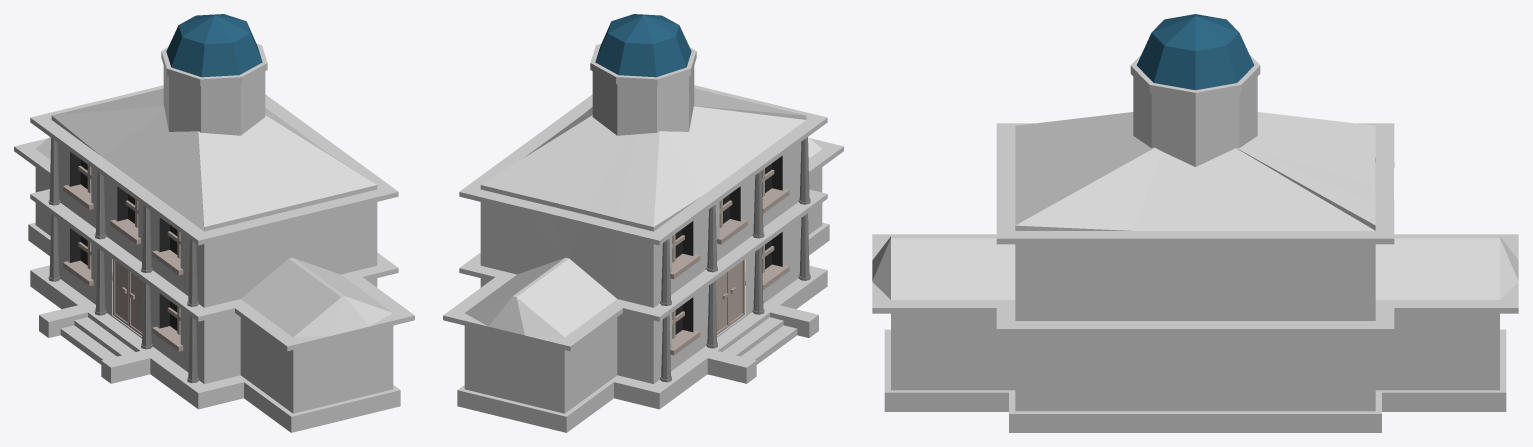
The model's file is TOWNHALL.fbx.
3 views of the same model, side by side, from view 1: azimuth 30°, elevation 25°; view 2: azimuth 150°, elevation 25°; view 3: azimuth 270°, elevation 25° (orthographic). The views are drawn at different scales.
Parts seen in each view (by area): view 1: Stadhuis, Cylinder, Sphere, Cylinder_1, deur, deur_2_3, Cylinder_4, Cylinder_16, Cylinder_7, Cylinder_13, Cylinder_19, Cylinder_25 (+12 smaller); view 2: Stadhuis, Cylinder, Sphere, Cylinder_1, deur_2_3, deur, Cylinder_13, Cylinder_25, Cylinder_4, Cylinder_7, Cylinder_10, Cylinder_16 (+12 smaller); view 3: Stadhuis, Cylinder, Sphere, Cylinder_1.
Boxes of the visible parts, left/top/right/bottom form: Stadhuis: left=14, top=85, right=414, bottom=432; Cylinder: left=163, top=66, right=265, bottom=135; Sphere: left=166, top=14, right=262, bottom=77; Cylinder_1: left=161, top=44, right=267, bottom=86; deur: left=113, top=259, right=128, bottom=326; deur_2_3: left=129, top=271, right=143, bottom=335; Cylinder_4: left=188, top=239, right=197, bottom=304; Cylinder_16: left=188, top=315, right=197, bottom=380; Cylinder_7: left=142, top=206, right=151, bottom=270; Cylinder_13: left=49, top=138, right=59, bottom=202; Cylinder_19: left=142, top=282, right=151, bottom=346; Cylinder_25: left=49, top=214, right=59, bottom=278; Stadhuis: left=443, top=85, right=843, bottom=432; Cylinder: left=592, top=66, right=694, bottom=135; Sphere: left=595, top=14, right=691, bottom=77; Cylinder_1: left=590, top=44, right=696, bottom=86; deur_2_3: left=729, top=259, right=744, bottom=325; deur: left=715, top=271, right=729, bottom=334; Cylinder_13: left=661, top=238, right=670, bottom=303; Cylinder_25: left=661, top=315, right=670, bottom=379; Cylinder_4: left=799, top=137, right=809, bottom=202; Cylinder_7: left=753, top=171, right=763, bottom=235; Cylinder_10: left=707, top=204, right=717, bottom=269; Cylinder_16: left=799, top=213, right=809, bottom=277; Stadhuis: left=872, top=112, right=1518, bottom=432; Cylinder: left=1133, top=77, right=1257, bottom=166; Sphere: left=1136, top=14, right=1254, bottom=90; Cylinder_1: left=1130, top=54, right=1260, bottom=101.
Bounding box in the file's own units: 150 × 184 × 296.
